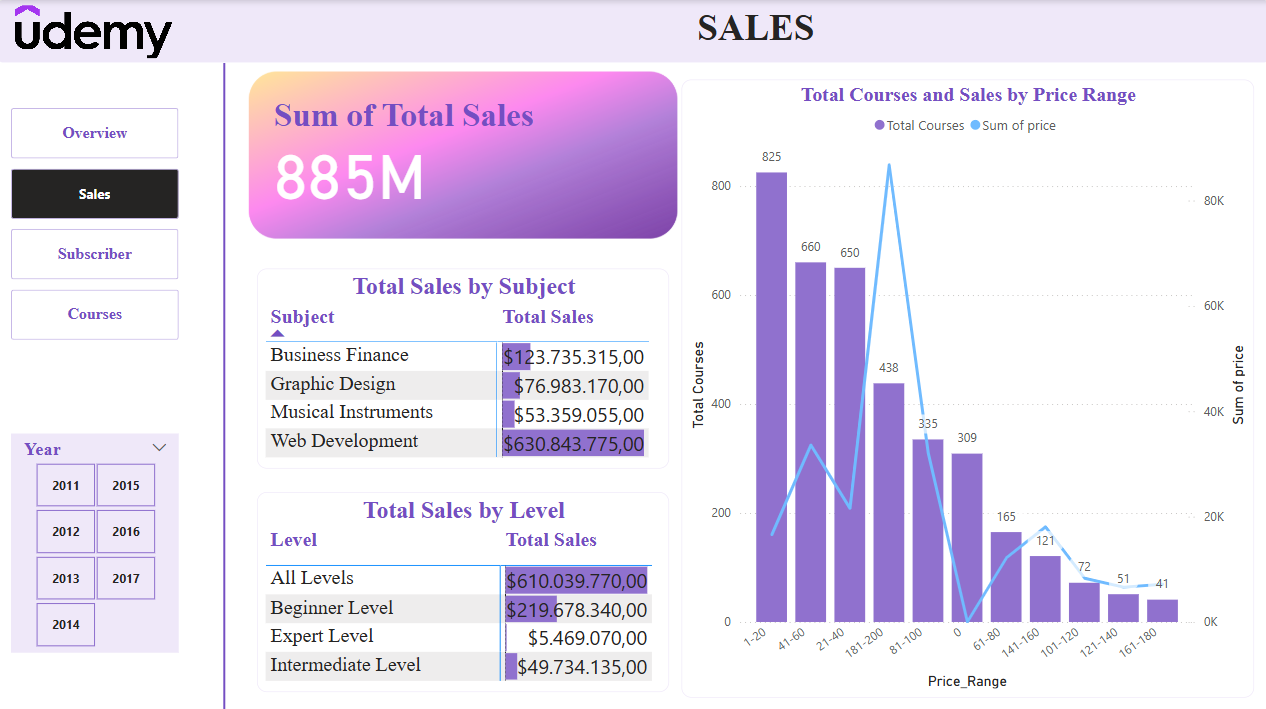

Layout of this report page (visuals, bound fields, positions):
{"tool":"powerbi","page":{"name":"Sales","canvas":[1280,720],"ordinal":1},"visuals":[{"type":"shape","box":[0,0,1280.7,63.6],"z":0},{"type":"lineStackedColumnComboChart","title":"Total Courses and Sales by Price Range","fields":{"Category":["Udemy Courses Dataset.Price_Range"],"Y":["Udemy Courses Dataset.Total Courses"],"Y2":["Sum(Udemy Courses Dataset.price)"]},"box":[689.4,80.9,577.7,624],"z":1000},{"type":"pivotTable","title":"Total Sales by Subject","fields":{"Values":["Sum(Udemy Courses Dataset.Total Sales)"],"Rows":["Udemy Courses Dataset.subject"]},"box":[260,271.5,416,202.2],"z":2000},{"type":"image","box":[246.5,1.9,442.9,310.1],"z":3000},{"type":"cardVisual","title":"SALES ","fields":{"Data":["Sum(Udemy Courses Dataset.Total Sales)"]},"box":[260,71.3,416,169.5],"z":4000},{"type":"image","box":[0,0,190.9,63.6],"z":5000},{"type":"pageNavigator","box":[11.6,109.8,169.5,234.9],"z":6000},{"type":"pivotTable","title":"Total Sales by Level","fields":{"Values":["Sum(Udemy Courses Dataset.Total Sales)"],"Rows":["Udemy Courses Dataset.level"]},"box":[260,496.9,416,202.2],"z":7000},{"type":"slicer","fields":{"Values":["Udemy Courses Dataset.published_timestamp.Variation.Date Hierarchy.Year"]},"box":[11.6,437.2,169.5,221.5],"z":8000},{"type":"textbox","box":[246.5,1.9,1034.2,79],"z":9000},{"type":"shape","box":[77,63.6,300.4,656.7],"z":10000}]}

Visuals, with their boxes on the page's 1280x720 design canvas (x1, y1, x2, y2). These are canvas units, not pixel positions in the 1266x709 screenshot, which may show the page scaled, cropped or inside an application window:
shape: bbox(0, 0, 1281, 64)
"Total Courses and Sales by Price Range" lineStackedColumnComboChart: bbox(689, 81, 1267, 705)
"Total Sales by Subject" pivotTable: bbox(260, 272, 676, 474)
image: bbox(246, 2, 689, 312)
"SALES " cardVisual: bbox(260, 71, 676, 241)
image: bbox(0, 0, 191, 64)
pageNavigator: bbox(12, 110, 181, 345)
"Total Sales by Level" pivotTable: bbox(260, 497, 676, 699)
slicer - Udemy Courses Dataset.published_timestamp.Variation.Date Hierarchy.Year: bbox(12, 437, 181, 659)
textbox: bbox(246, 2, 1281, 81)
shape: bbox(77, 64, 377, 720)
